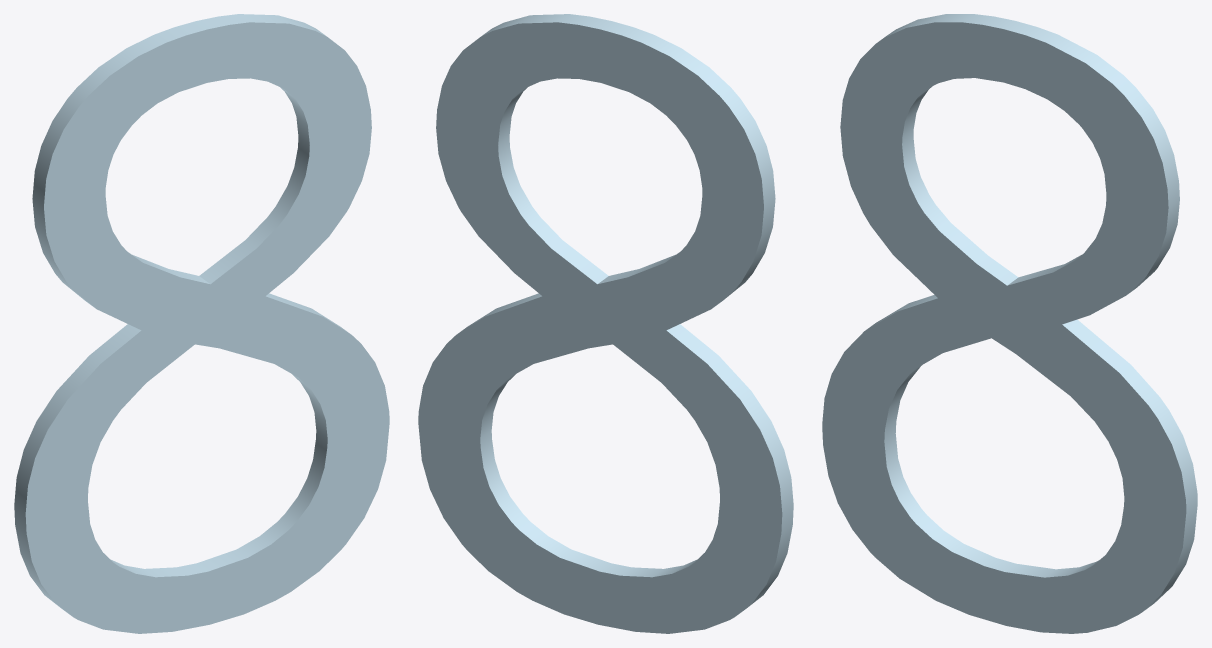
3 views of the same model, side by side, from view 1: azimuth 30°, elevation 25°; view 2: azimuth 150°, elevation 25°; view 3: azimuth 330°, elevation 25° (orthographic).
Parts seen in each view (by area): view 1: 8; view 2: 8; view 3: 8.
Part boxes in pixels (left/top/right/bottom): 8: left=14, top=14, right=389, bottom=633; 8: left=418, top=14, right=793, bottom=633; 8: left=822, top=14, right=1197, bottom=633.
Bounding box in the file's own units: 0.0369 × 0.0577 × 0.002.
